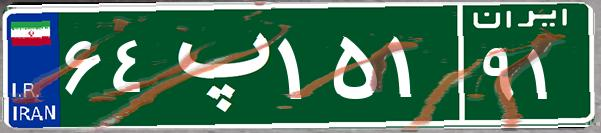1: (385, 28, 445, 110), (273, 28, 330, 110), (525, 38, 570, 115)
4: (110, 28, 158, 105)
5: (330, 28, 385, 110)
6: (57, 26, 110, 107)
9: (475, 38, 525, 113)
پ: (158, 15, 273, 115)
